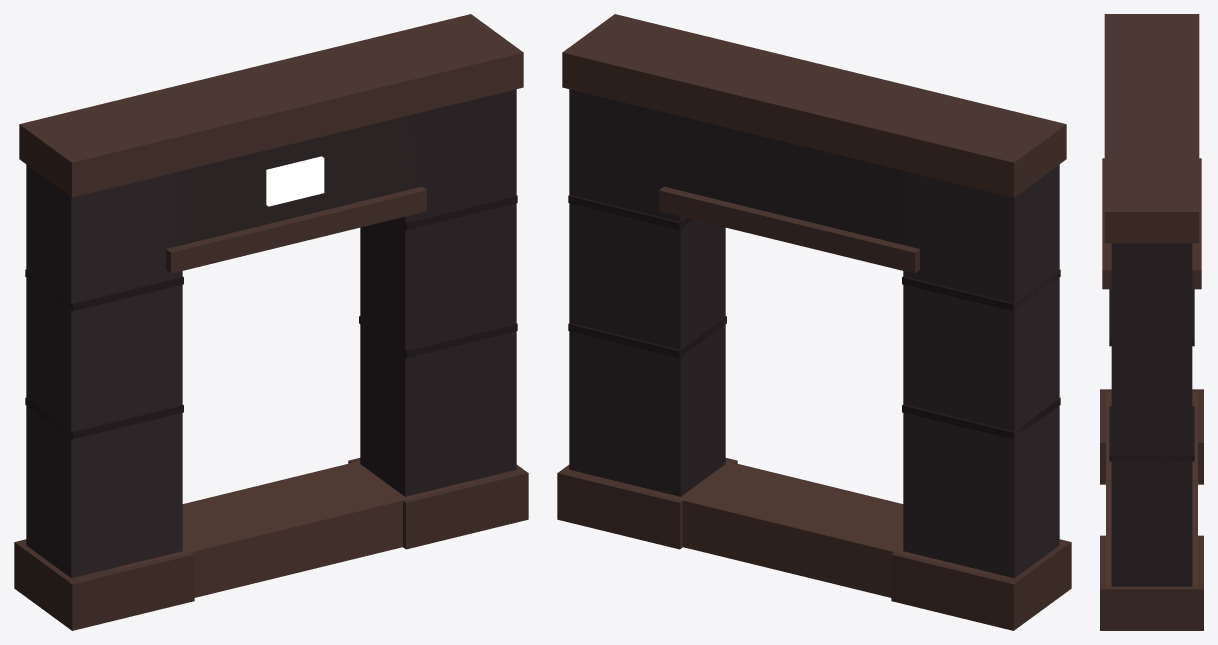
Rendered from wall_doorway_4m.glb.
The picture shows the model from 3 angles, left to right: view 1: azimuth 30°, elevation 25°; view 2: azimuth 150°, elevation 25°; view 3: azimuth 270°, elevation 25°; orthographic projection. The views are drawn at different scales.
Parts seen in each view (by area): view 1: wall_doorway_4m; view 2: wall_doorway_4m; view 3: wall_doorway_4m.
Part boxes in pixels (left/top/right/bottom): wall_doorway_4m: left=14, top=14, right=528, bottom=630; wall_doorway_4m: left=557, top=14, right=1071, bottom=630; wall_doorway_4m: left=1100, top=14, right=1203, bottom=630.
Size of the model in its own units: 4.1 by 4 by 0.9.
